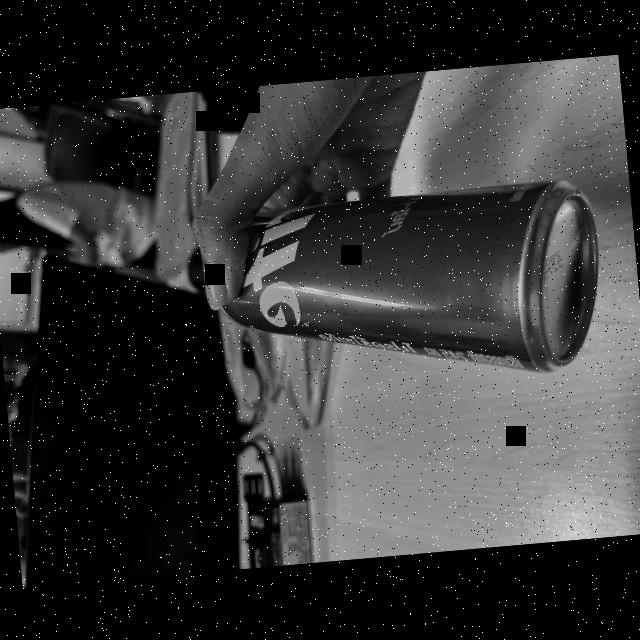can: (198, 160, 610, 408)
